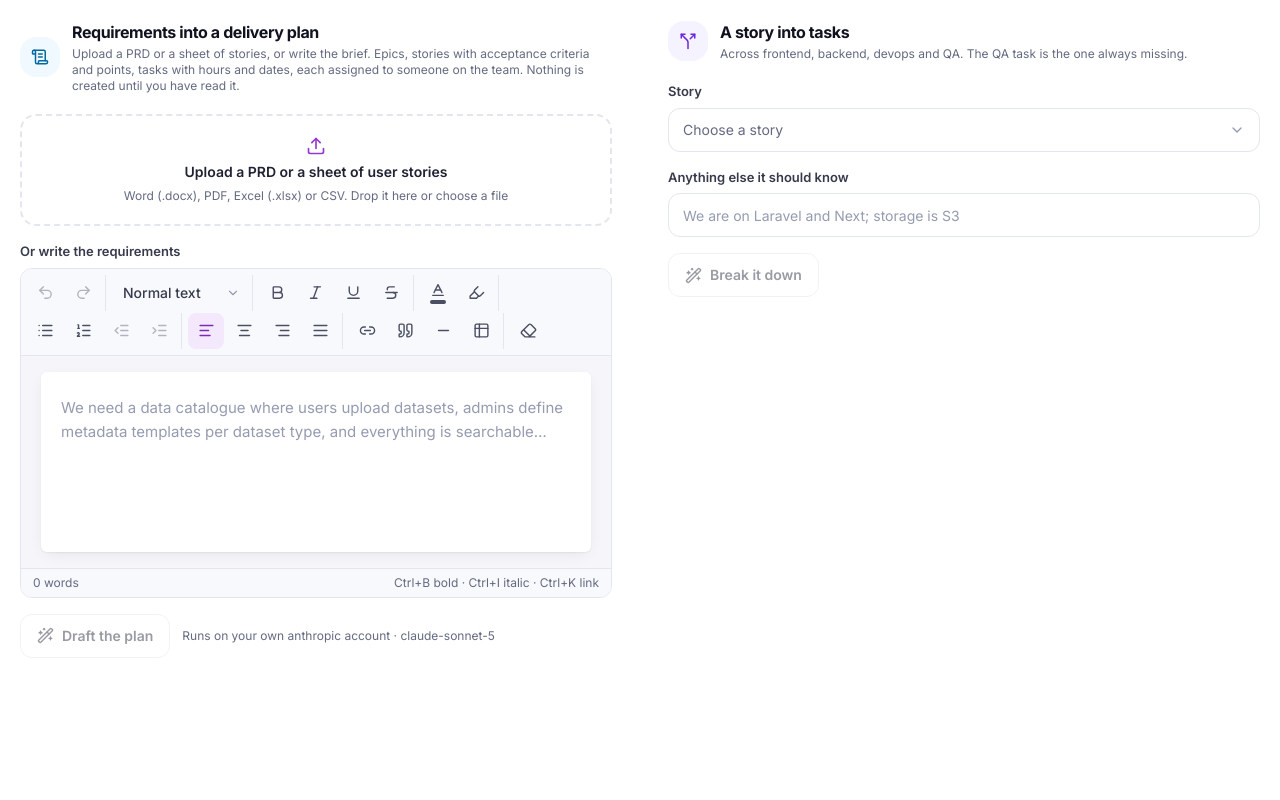
Test: AiWorkshop › breaks a story into tasks across the disciplines
Click the dropdown labelled "Choose a story" at (733, 129), box [668,108,1260,152]
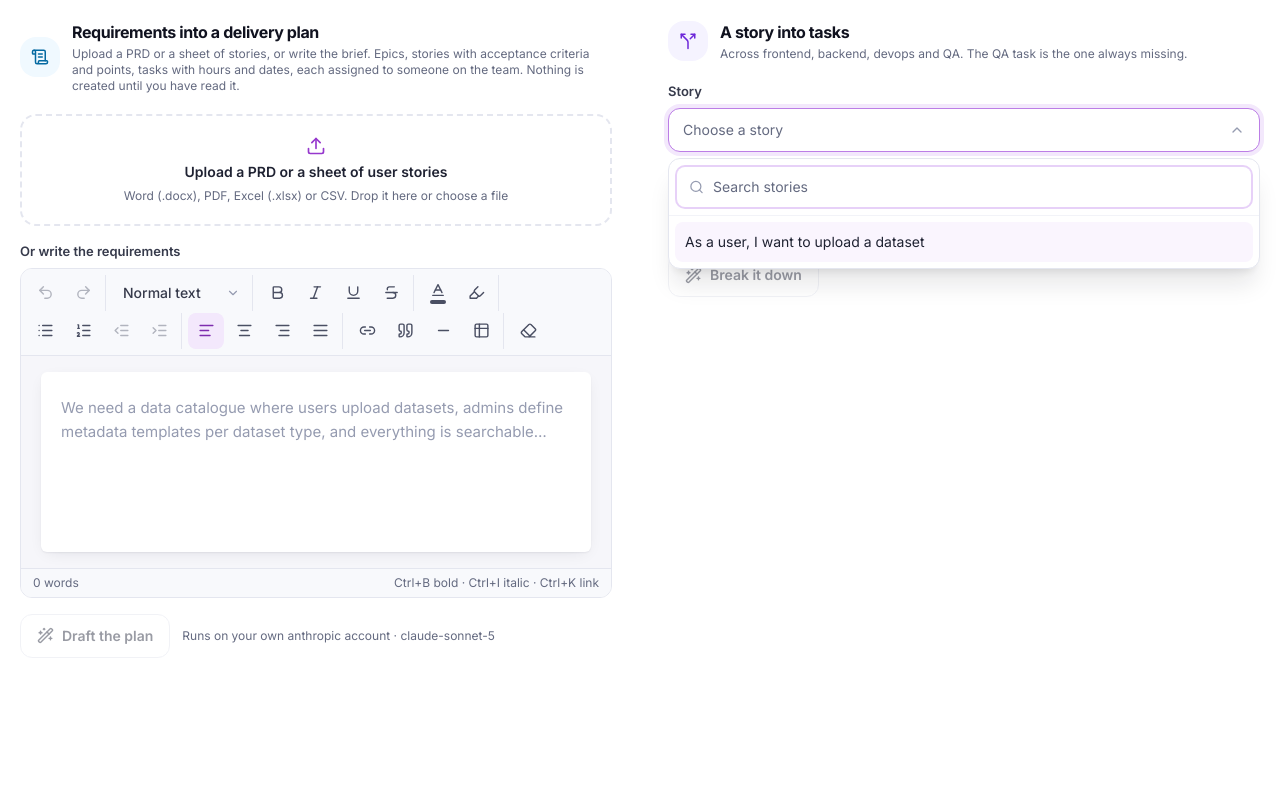
Type keys "As a user, I want to upload a dataset"
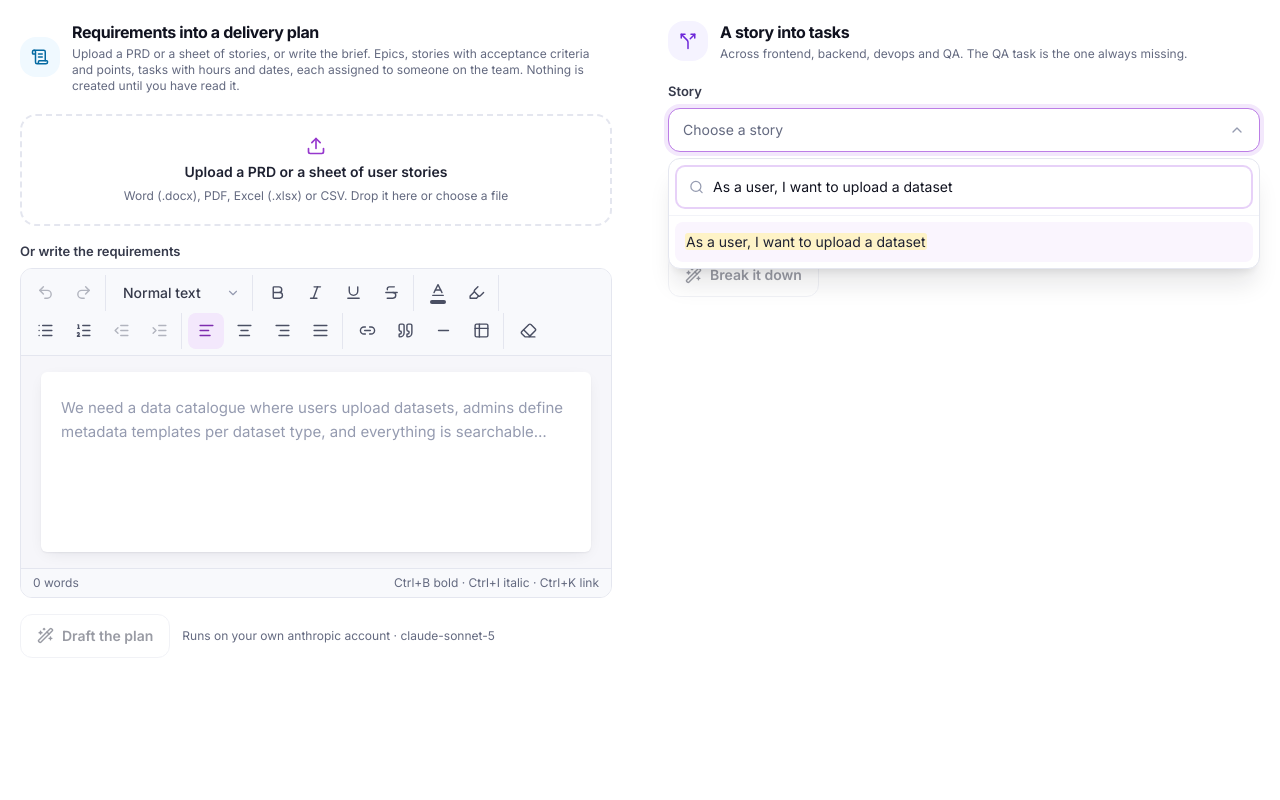
Click the option "As a user, I want to upload a dataset" at (806, 241), box [675,222,1253,262]
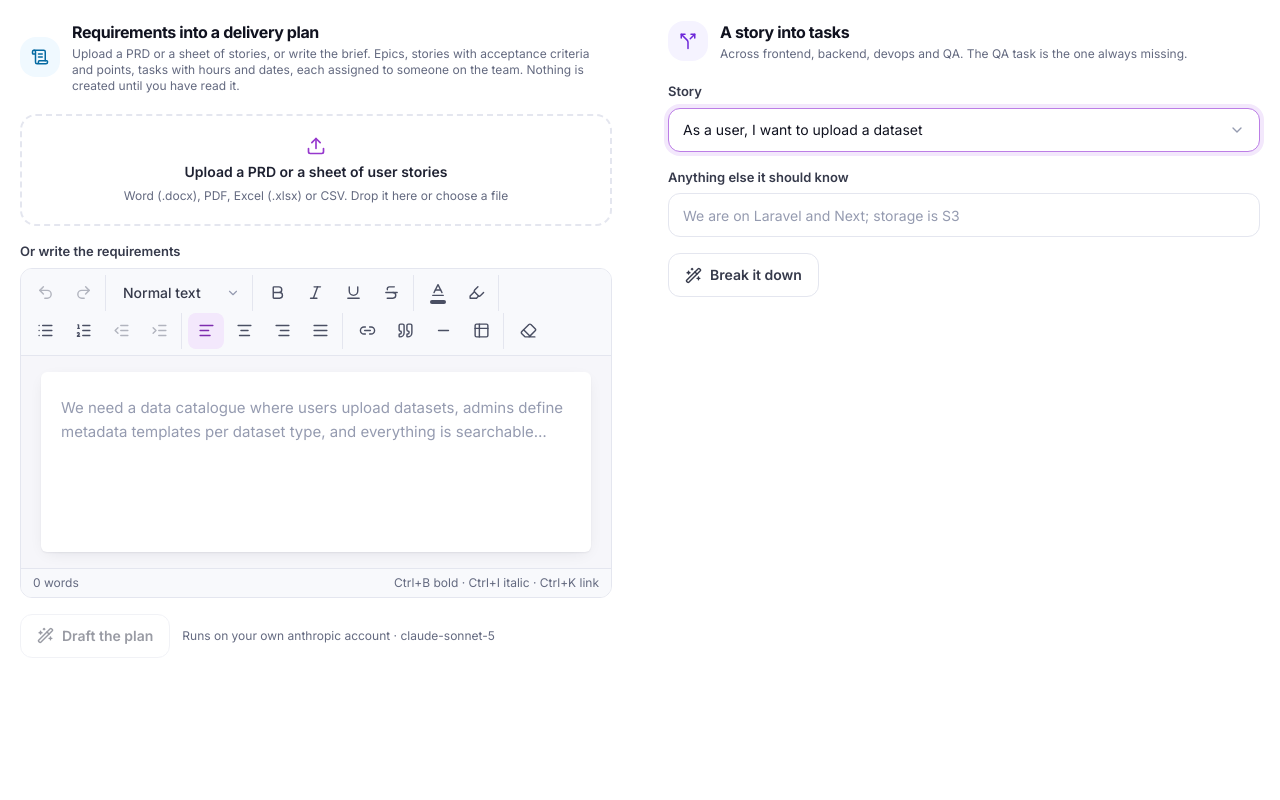
Type "Laravel and Next" into the field labelled "Anything else it should know" at (964, 215), box [668,193,1260,237]
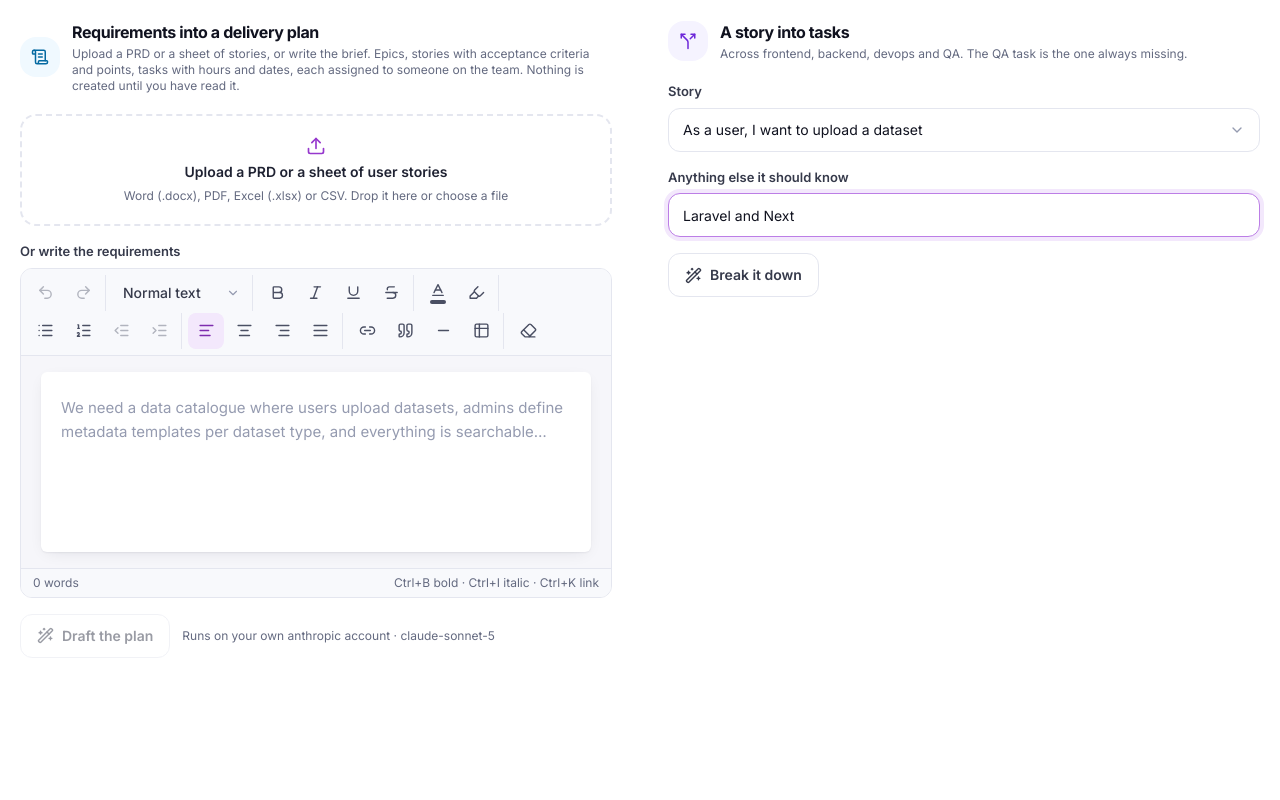
Click the button "Break it down" at (743, 275), box [668,253,819,297]
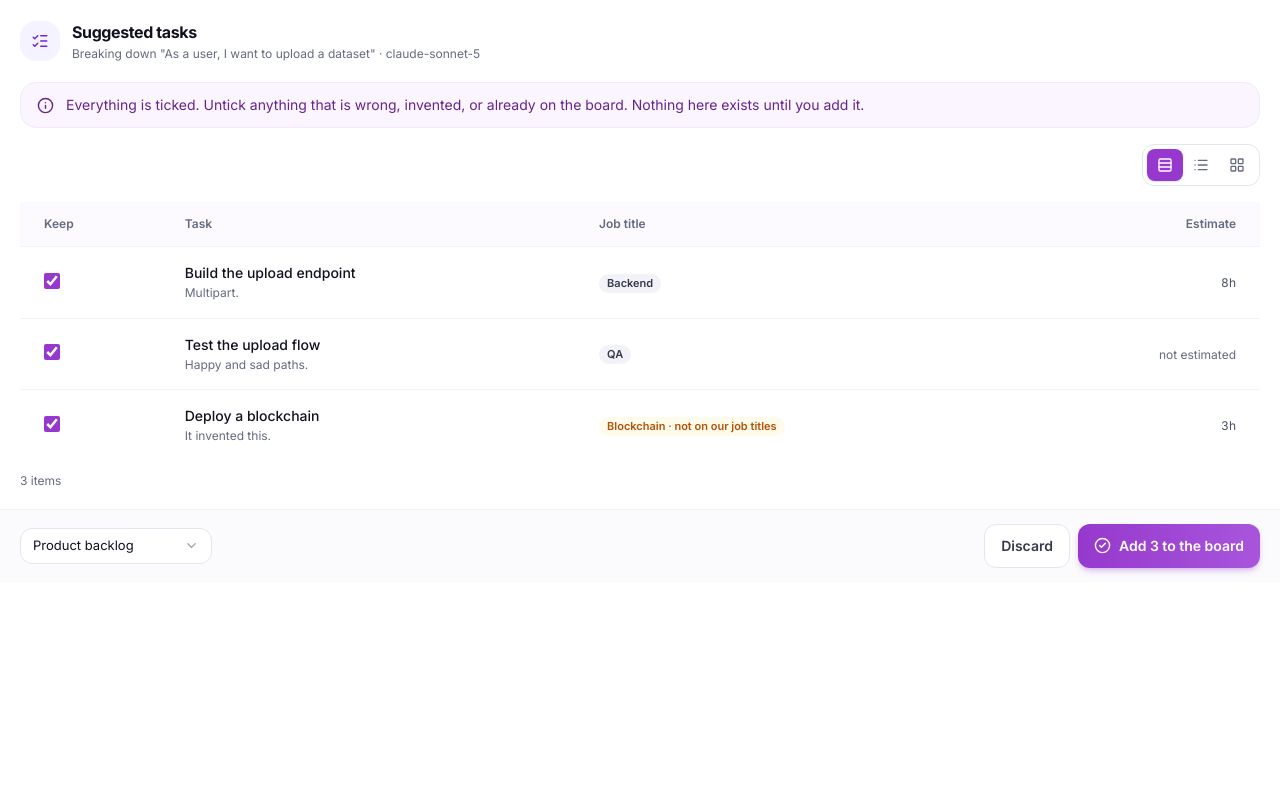
Now the text "Build the upload endpoint" is shown, box [185,264,356,281]
Now the text "Test the upload flow" is shown, box [185,336,320,352]
